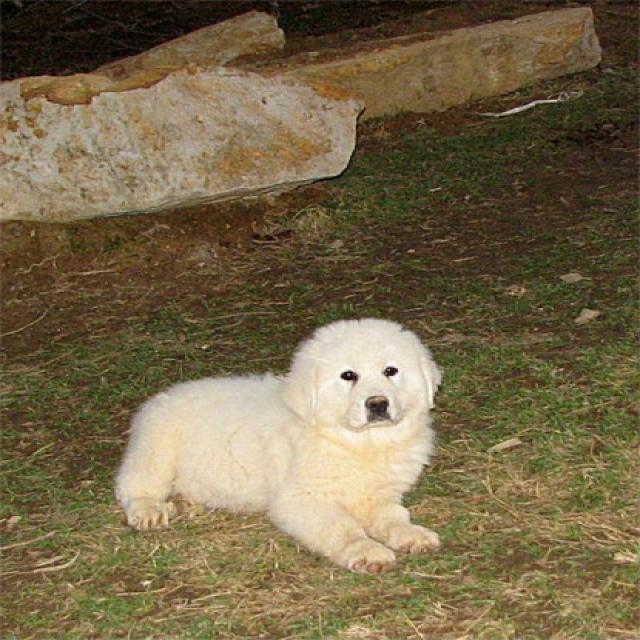dog: (281, 318, 438, 430)
